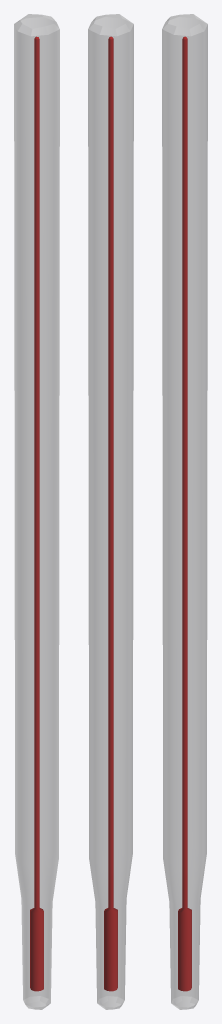
Rendered from Thermometer.glb.
3 views of the same model, side by side, from view 1: azimuth 30°, elevation 25°; view 2: azimuth 150°, elevation 25°; view 3: azimuth 330°, elevation 25° (orthographic).
Parts seen in each view (by area): view 1: polySurface3, polySurface4; view 2: polySurface3, polySurface4; view 3: polySurface3, polySurface4.
Boxes of the visible parts, box(x1,y1,x2,y2) form: polySurface3: box(14, 14, 59, 1009); polySurface4: box(30, 36, 43, 991); polySurface3: box(88, 14, 133, 1009); polySurface4: box(104, 36, 117, 991); polySurface3: box(162, 14, 207, 1009); polySurface4: box(178, 36, 191, 991).
Size of the model in its own units: 0.00705 by 0.171 by 0.00705.
